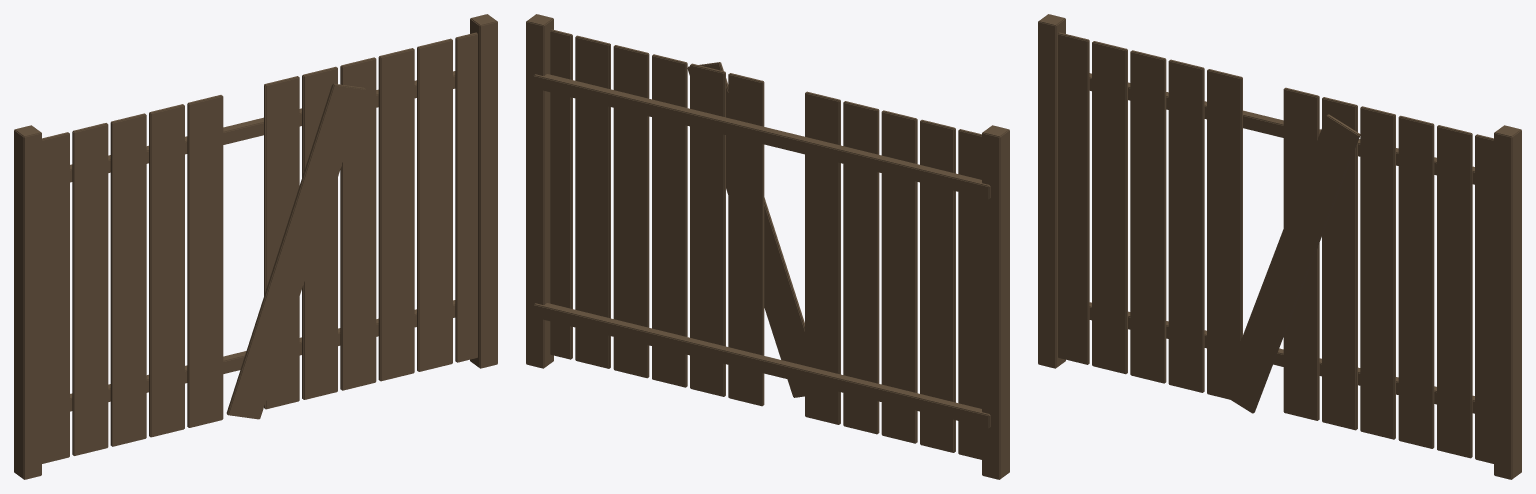
File: fence_loose_board.glb
3 renders of one model, left to right at view 1: azimuth 30°, elevation 25°; view 2: azimuth 150°, elevation 25°; view 3: azimuth 330°, elevation 25°, orthographic.
Visible parts, largest first — view 1: loose_mesh; view 2: loose_mesh; view 3: loose_mesh.
Boxes of the visible parts, x1,y1,x2,y2 form: loose_mesh: (14, 14, 497, 479); loose_mesh: (526, 14, 1009, 479); loose_mesh: (1038, 14, 1521, 479).
Size of what is drawn, in the model's own units: 2.6 by 1.8 by 0.215.
